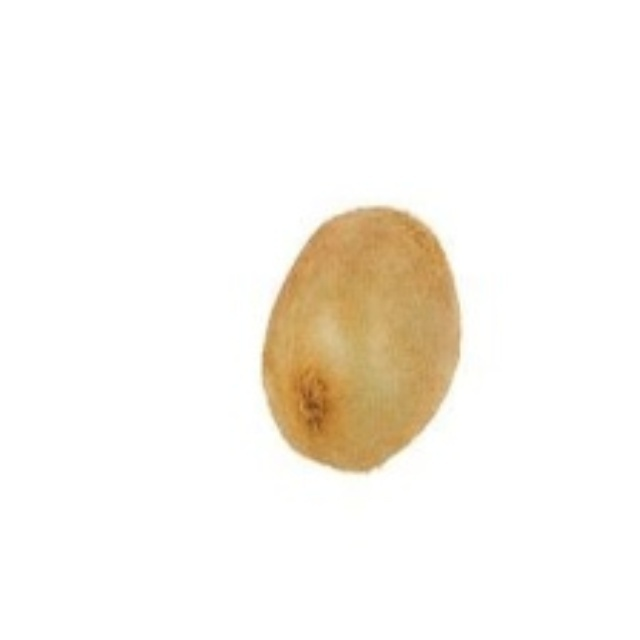kiwi: (255, 202, 464, 468)
